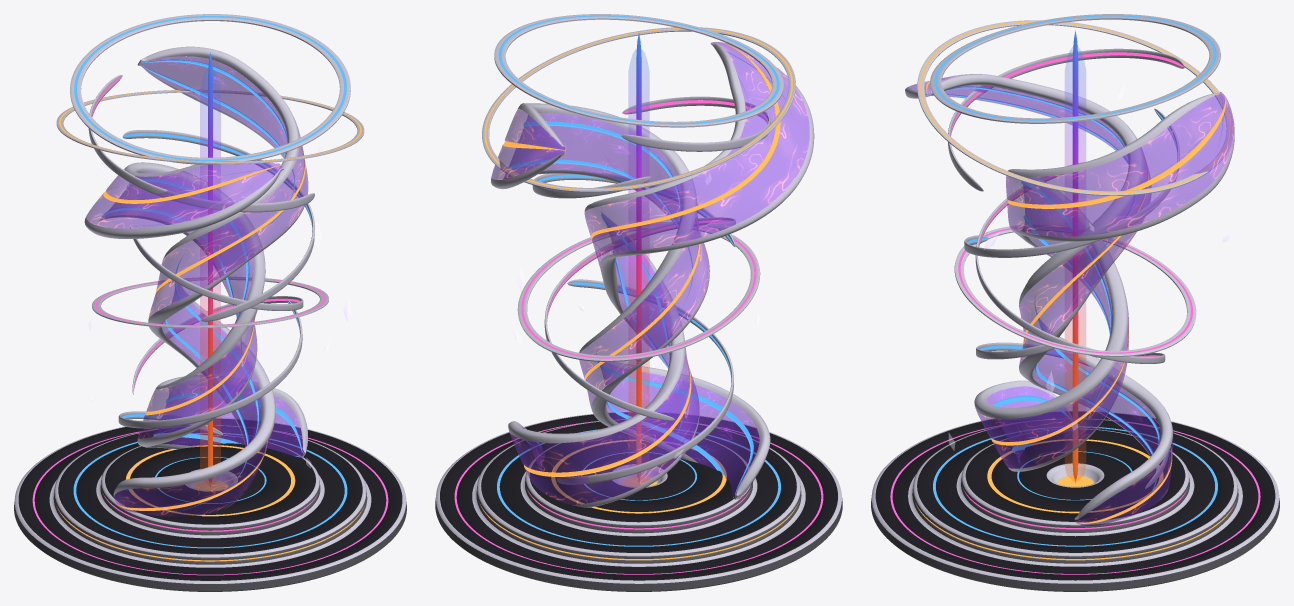
File: Forge_Asset01_web.glb
The picture shows the model from 3 angles, left to right: view 1: azimuth 30°, elevation 25°; view 2: azimuth 150°, elevation 25°; view 3: azimuth 270°, elevation 25°; orthographic projection. The views are drawn at different scales.
Parts seen in each view (by area): view 1: Forge_Base, Forge_Ribbon_02, Forge_Ribbon_01, Forge_OrbitRing_01, Forge_EnergyBeam_Glow, Forge_Ribbon_05, Forge_OrbitRing_02, Forge_Ribbon_06, Forge_Ribbon_03, Forge_Ribbon_04, Forge_OrbitRing_03, Forge_EnergyBeam; view 2: Forge_Base, Forge_Ribbon_01, Forge_Ribbon_02, Forge_OrbitRing_01, Forge_OrbitRing_02, Forge_EnergyBeam_Glow, Forge_OrbitRing_03, Forge_Ribbon_03, Forge_Ribbon_06, Forge_Ribbon_04, Forge_EnergyBeam, Forge_Ribbon_05; view 3: Forge_Base, Forge_Ribbon_02, Forge_Ribbon_01, Forge_OrbitRing_01, Forge_OrbitRing_02, Forge_EnergyBeam_Glow, Forge_OrbitRing_03, Forge_Ribbon_06, Forge_EnergyBeam, Forge_Ribbon_05, Forge_Ribbon_04, Forge_Ribbon_03.
Boxes of the visible parts, x1,y1,x2,y2 form: Forge_Base: [14, 418, 406, 591]; Forge_Ribbon_02: [113, 46, 308, 516]; Forge_Ribbon_01: [84, 162, 307, 457]; Forge_OrbitRing_01: [70, 14, 350, 164]; Forge_EnergyBeam_Glow: [200, 68, 220, 469]; Forge_Ribbon_05: [122, 130, 314, 321]; Forge_OrbitRing_02: [56, 90, 364, 164]; Forge_Ribbon_06: [88, 75, 314, 212]; Forge_Ribbon_03: [118, 300, 302, 434]; Forge_Ribbon_04: [130, 227, 303, 394]; Forge_OrbitRing_03: [92, 277, 328, 328]; Forge_EnergyBeam: [208, 52, 212, 486]; Forge_Base: [435, 412, 842, 591]; Forge_Ribbon_01: [508, 42, 814, 507]; Forge_Ribbon_02: [491, 103, 770, 499]; Forge_OrbitRing_01: [494, 14, 783, 127]; Forge_OrbitRing_02: [482, 27, 795, 192]; Forge_EnergyBeam_Glow: [628, 48, 649, 418]; Forge_OrbitRing_03: [517, 222, 760, 361]; Forge_Ribbon_03: [557, 279, 733, 484]; Forge_Ribbon_06: [621, 96, 770, 151]; Forge_Ribbon_04: [544, 217, 735, 420]; Forge_EnergyBeam: [636, 33, 641, 481]; Forge_Ribbon_05: [532, 171, 735, 246]; Forge_Base: [871, 411, 1279, 591]; Forge_Ribbon_02: [974, 91, 1234, 471]; Forge_Ribbon_01: [905, 74, 1173, 525]; Forge_OrbitRing_01: [930, 14, 1220, 123]; Forge_OrbitRing_02: [917, 20, 1233, 195]; Forge_EnergyBeam_Glow: [1065, 46, 1085, 482]; Forge_OrbitRing_03: [954, 225, 1196, 356]; Forge_Ribbon_06: [948, 48, 1184, 191]; Forge_EnergyBeam: [1072, 30, 1078, 482]; Forge_Ribbon_05: [964, 108, 1179, 257]; Forge_Ribbon_04: [975, 162, 1165, 363]; Forge_Ribbon_03: [976, 342, 1169, 488].
Bounding box in the file's own units: 11.36 × 14.6 × 11.36.
Materials: 10 (2 with a texture image).
